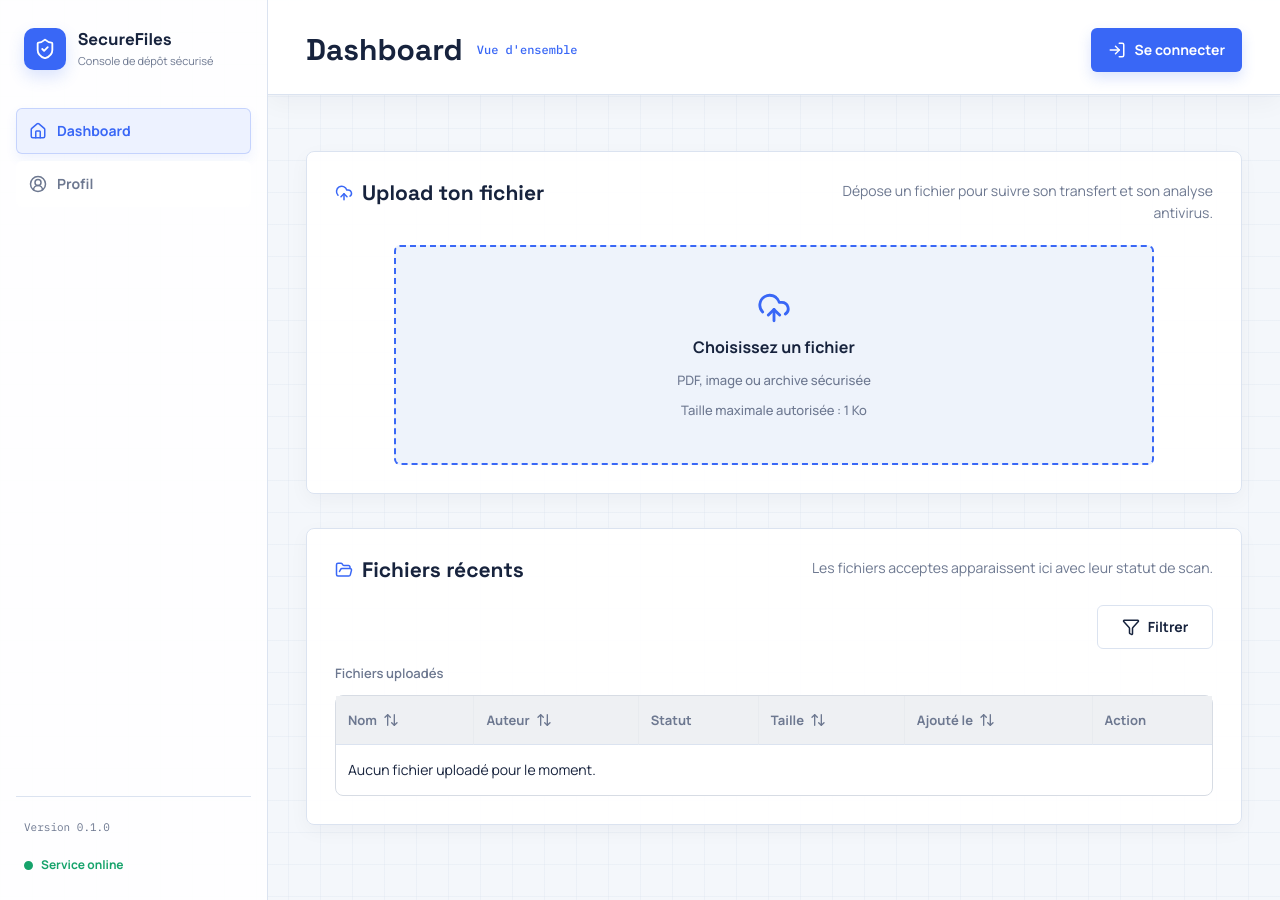
Test case: App › logs in through the backend and keeps the session in the account state
This screenshot has width=1280, height=900.
Click the button "Se connecter" at x=1167, y=50, box [1092, 28, 1242, 72]
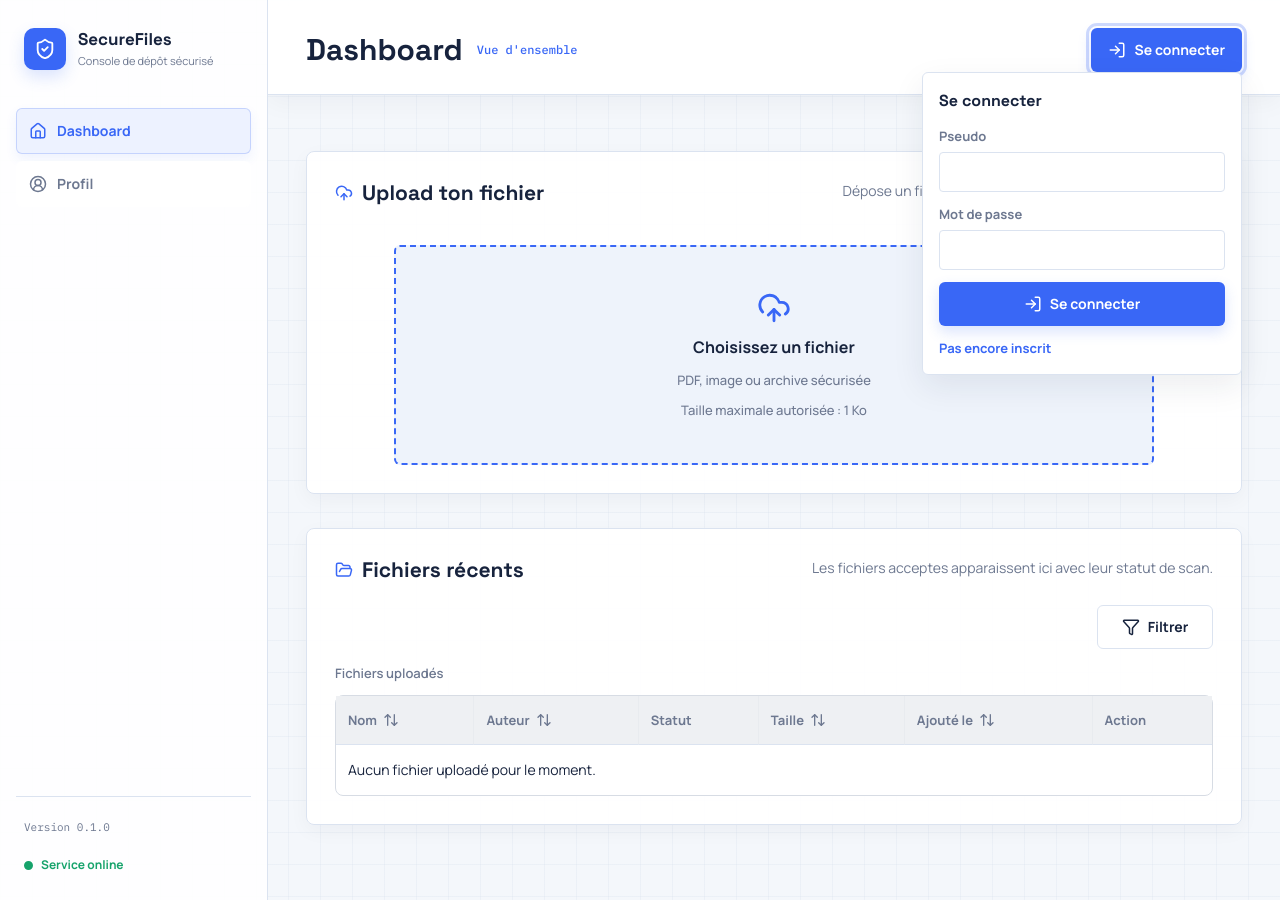
Type "Alice Martin" into the field labelled "Pseudo" at x=1082, y=172, box [939, 152, 1225, 192]
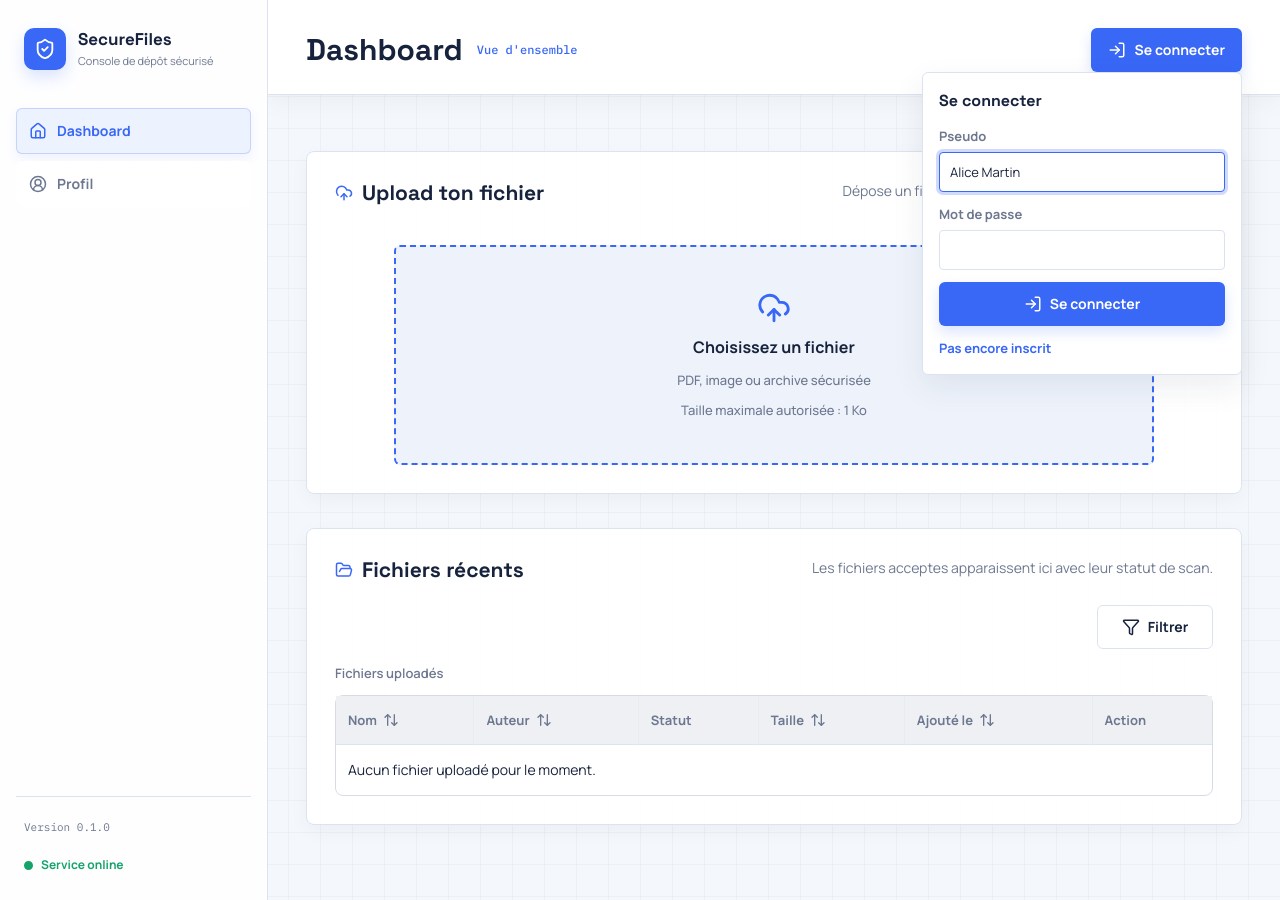
Type "mot-de-passe" into the password field labelled "Mot de passe" at x=1082, y=250, box [939, 230, 1225, 270]
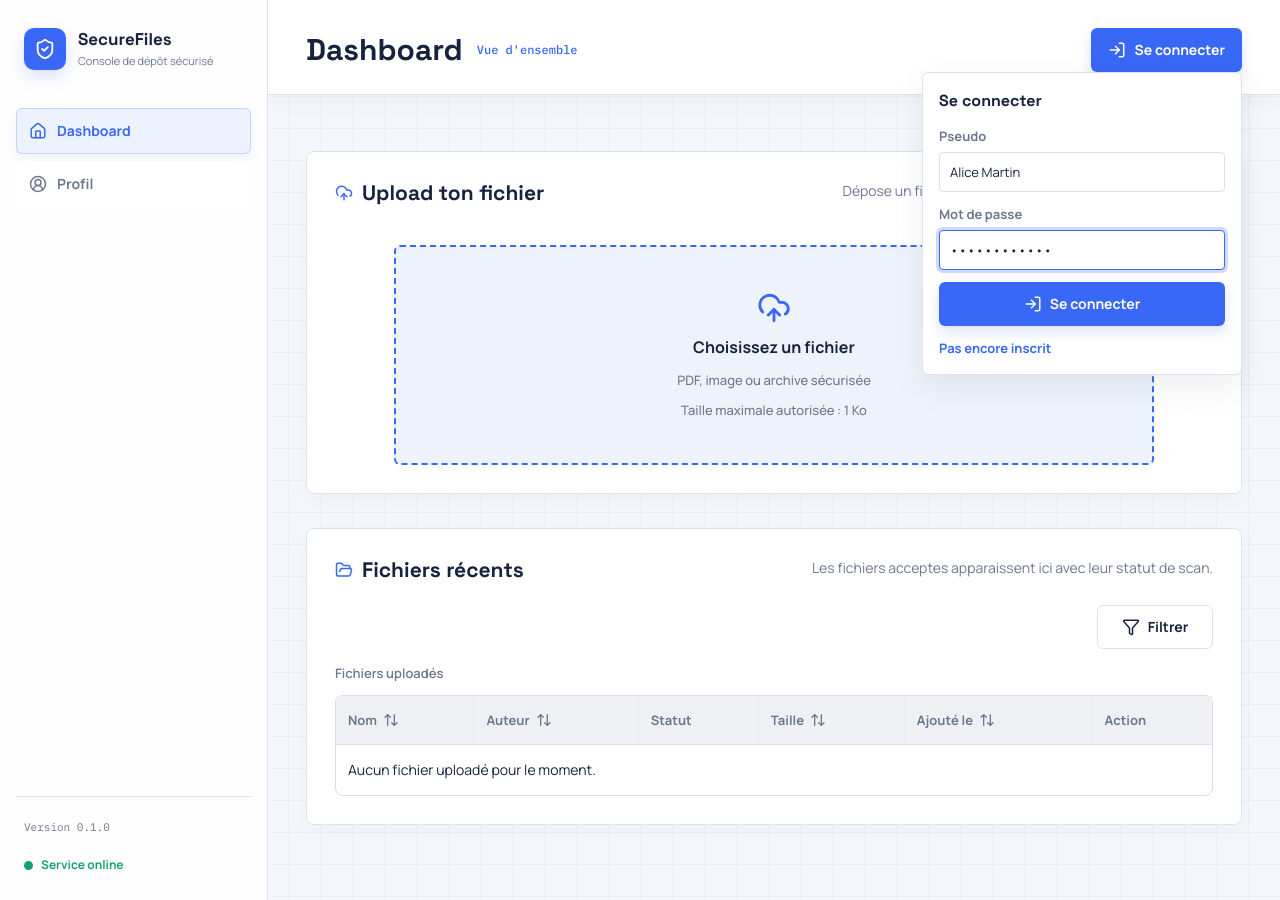
Click the button "Se connecter" below "Mot de passe" at x=1082, y=304, box [939, 282, 1225, 326]
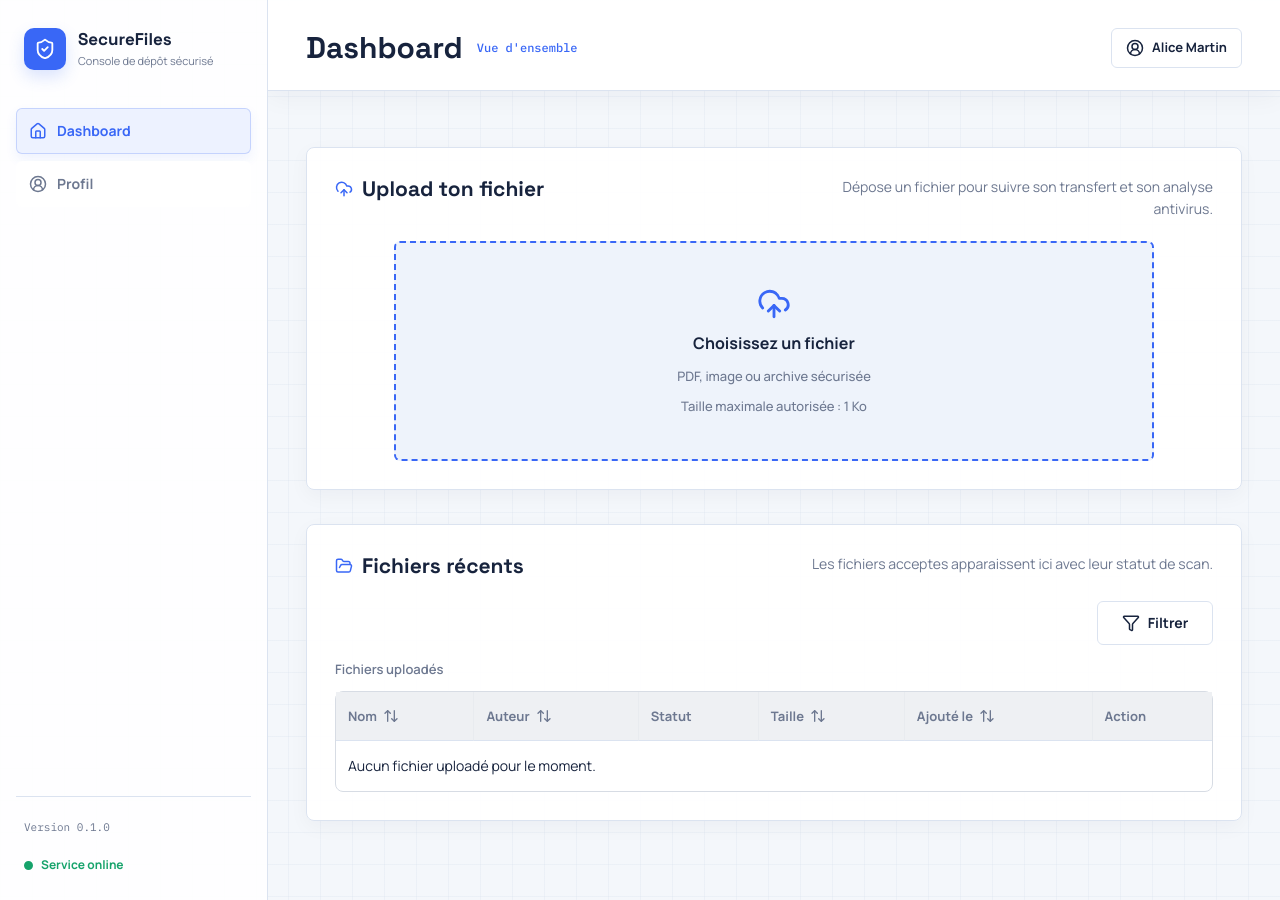
Now the button "Alice Martin" is shown, box [1111, 28, 1242, 68]
